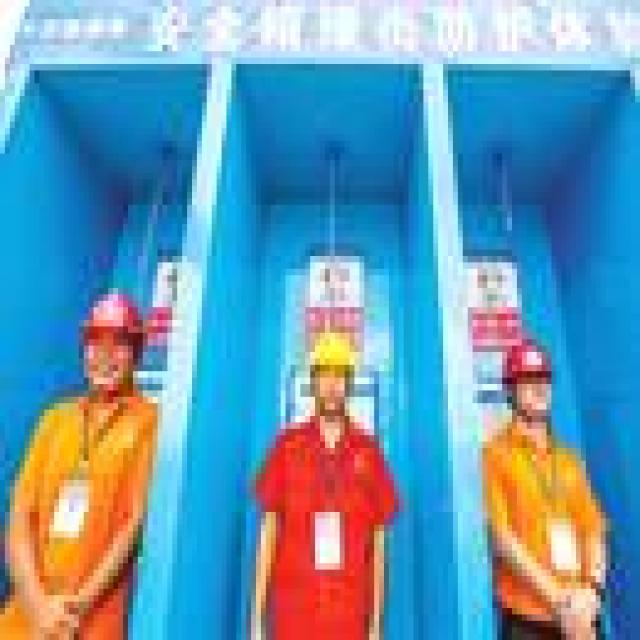helmet: (64, 282, 138, 391), (300, 320, 354, 410), (498, 326, 552, 416)
